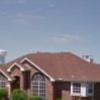chimneys: (78, 53, 94, 65)
